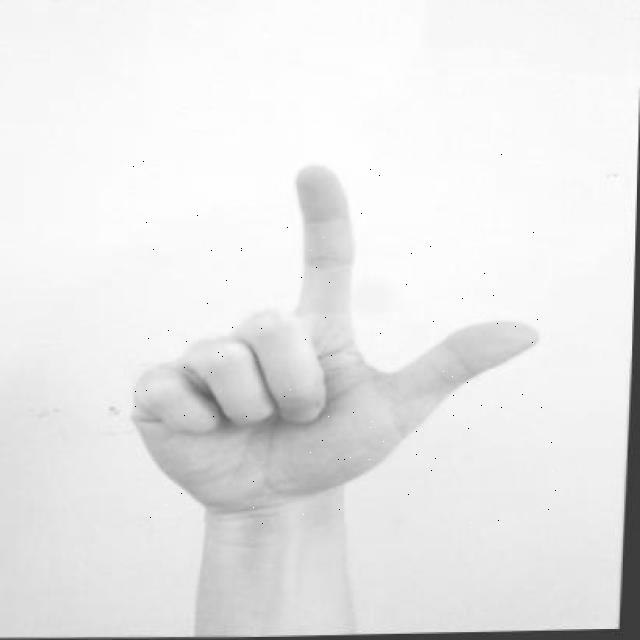L: (124, 154, 558, 524)
